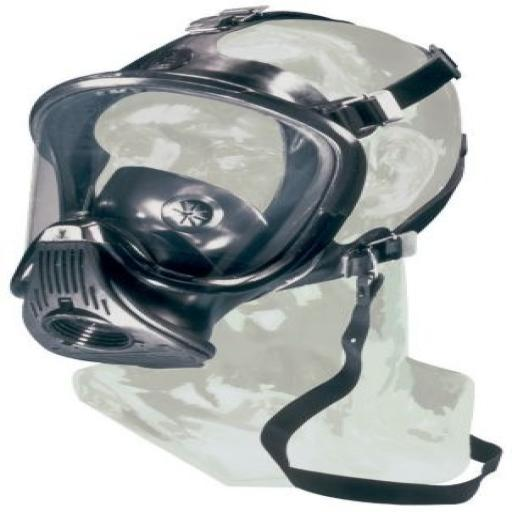mask: (0, 74, 359, 376)
